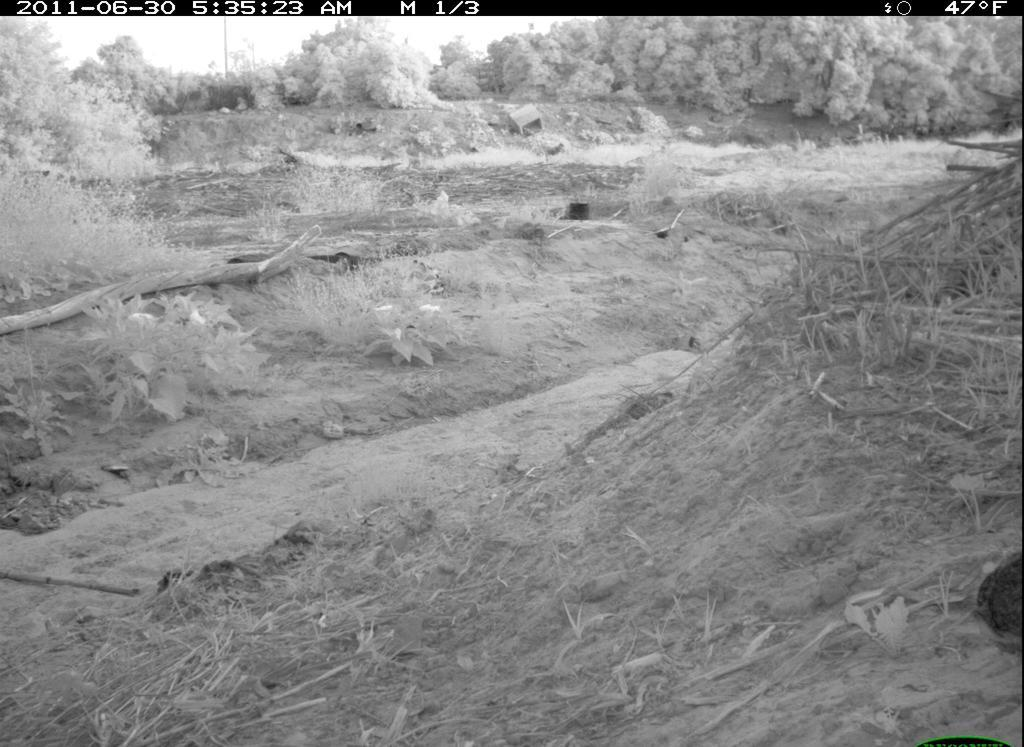rabbit: (978, 546, 1023, 666)
